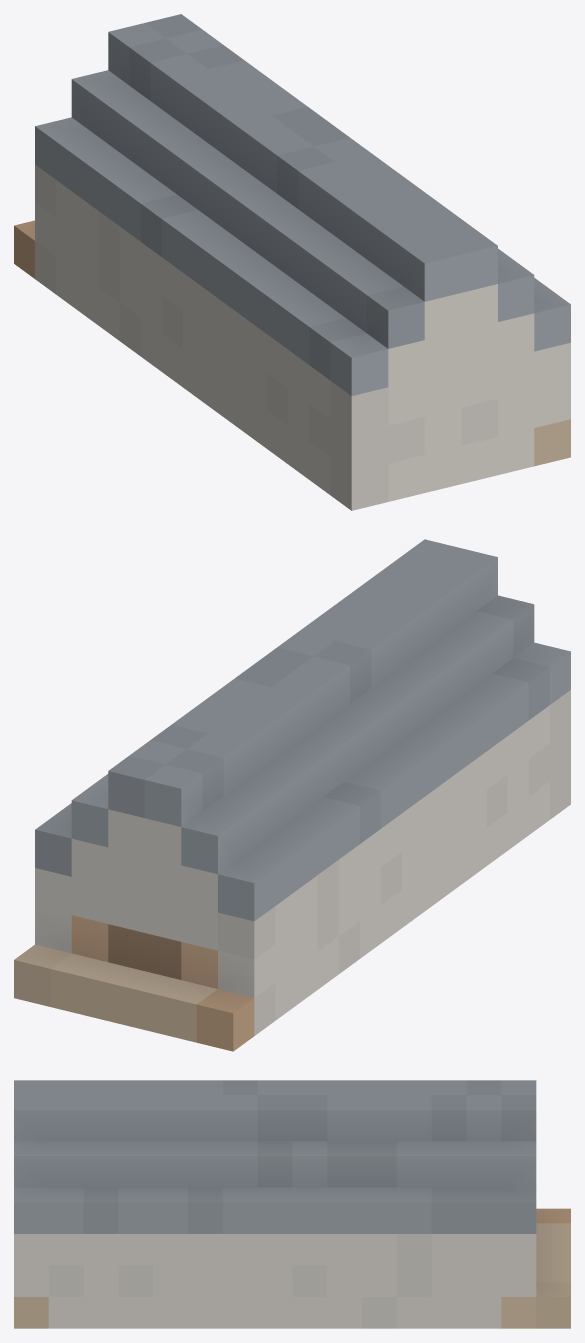
Rendered from salt_mine.lite.glb.
3 renders of one model, top to bottom at view 1: azimuth 30°, elevation 25°; view 2: azimuth 150°, elevation 25°; view 3: azimuth 270°, elevation 25°, orthographic. The views are drawn at different scales.
Parts seen in each view (by area): view 1: salt_mine; view 2: salt_mine; view 3: salt_mine.
Part boxes in pixels (box(x1,y1,x2,y2)): salt_mine: box(14, 14, 570, 510); salt_mine: box(14, 539, 570, 1051); salt_mine: box(14, 1080, 570, 1328).
Bounding box in the file's own units: 3 × 3 × 8.
